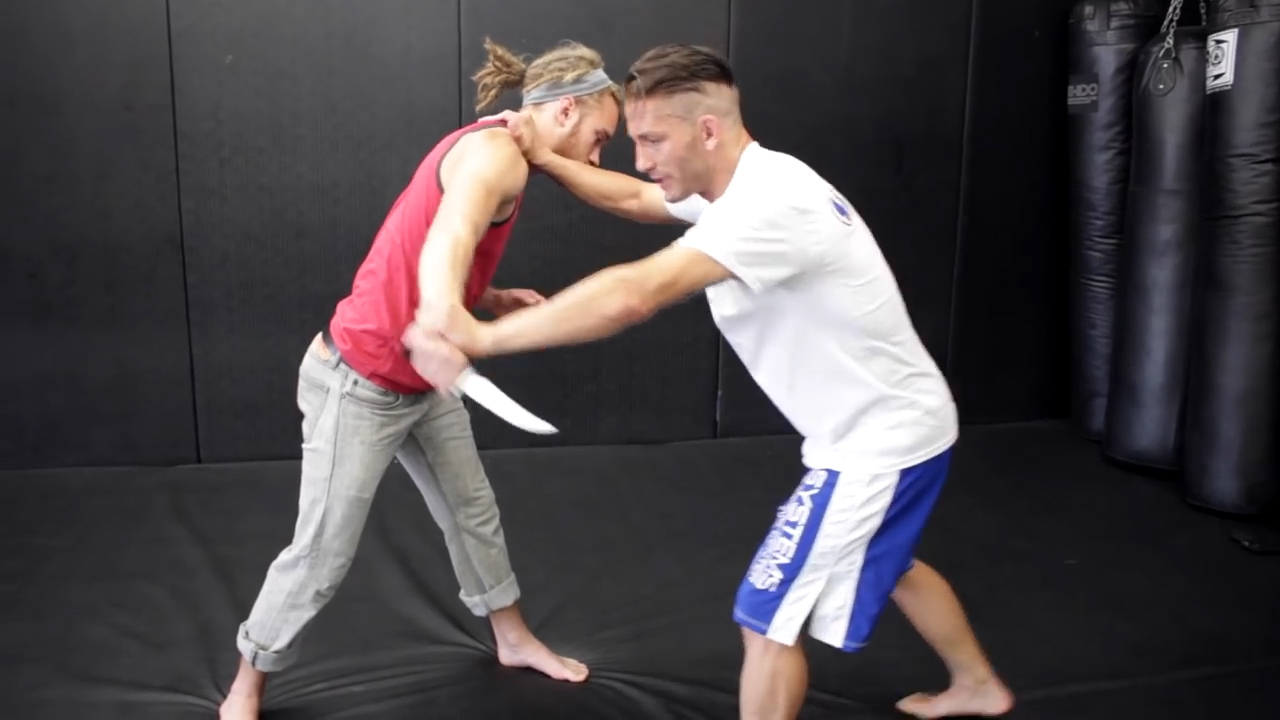knife: (396, 337, 573, 449)
